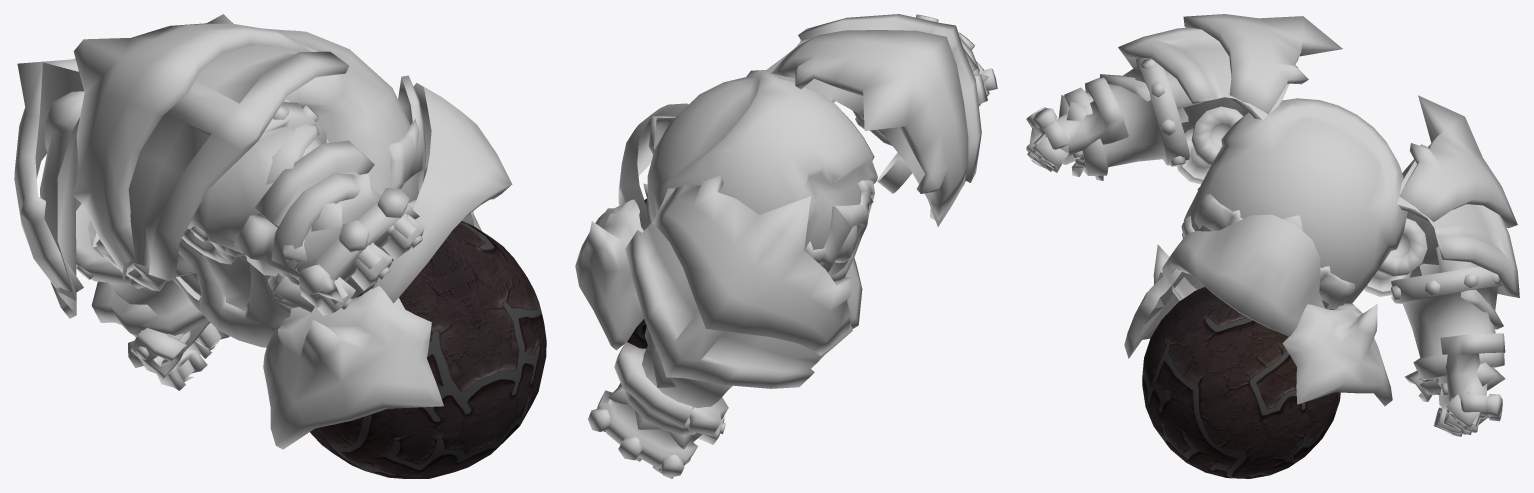
3 views of the same model, side by side, from view 1: azimuth 30°, elevation 25°; view 2: azimuth 150°, elevation 25°; view 3: azimuth 270°, elevation 25° (orthographic). The views are drawn at different scales.
Parts seen in each view (by area): view 1: ironreaver01; view 2: ironreaver01; view 3: ironreaver01.
Part boxes in pixels (<box>): ironreaver01: <box>14,14,546,478</box>; ironreaver01: <box>575,14,997,478</box>; ironreaver01: <box>1026,14,1519,478</box>.
Size of the model in its own units: 1.24 by 1.3 by 1.61.
